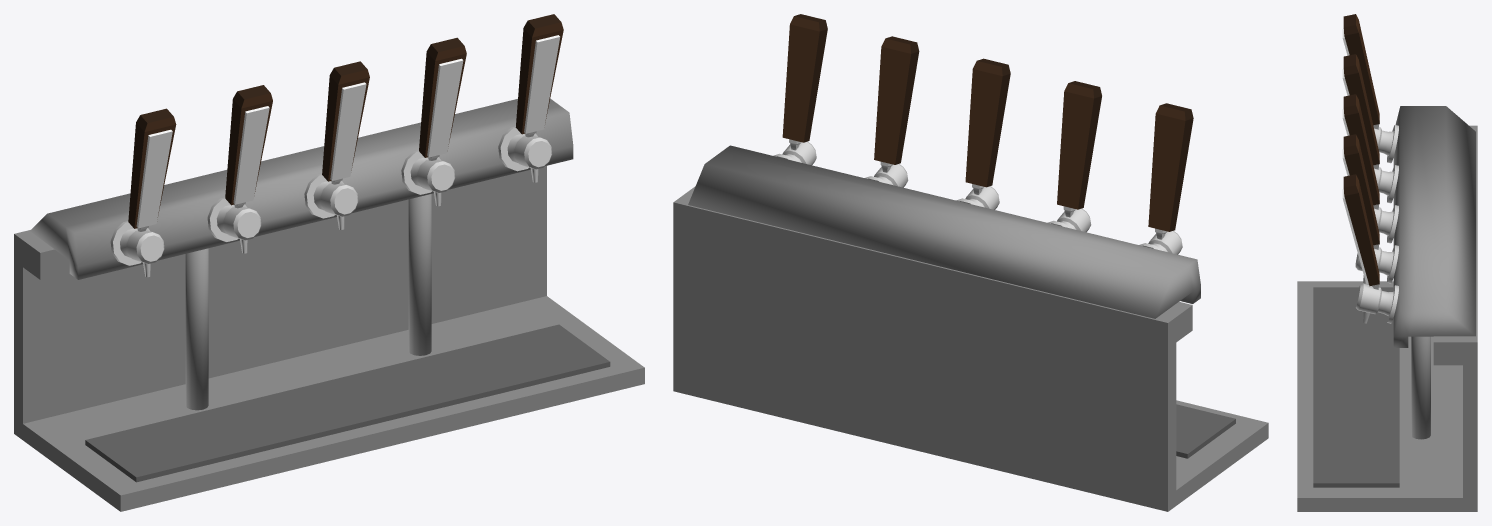
File: DrinkStation.fbx
The picture shows the model from 3 angles, left to right: view 1: azimuth 30°, elevation 25°; view 2: azimuth 150°, elevation 25°; view 3: azimuth 270°, elevation 25°; orthographic projection. The views are drawn at different scales.
Parts seen in each view (by area): view 1: DrinkStation, TapHandle, TapHandle.001, TapHandle.002, TapHandle.003, TapHandle.004; view 2: DrinkStation, TapHandle.004, TapHandle.002, TapHandle.003, TapHandle, TapHandle.001; view 3: DrinkStation, TapHandle.004, TapHandle, TapHandle.001, TapHandle.002, TapHandle.003.
Boxes of the visible parts, x1=… form: DrinkStation: x1=14, y1=99, x2=644, y2=511; TapHandle: x1=128, y1=108, x2=176, y2=228; TapHandle.001: x1=225, y1=85, x2=272, y2=205; TapHandle.002: x1=322, y1=61, x2=369, y2=181; TapHandle.003: x1=419, y1=37, x2=466, y2=157; TapHandle.004: x1=515, y1=14, x2=563, y2=134; DrinkStation: x1=673, y1=139, x2=1268, y2=511; TapHandle.004: x1=782, y1=14, x2=827, y2=142; TapHandle.002: x1=965, y1=58, x2=1010, y2=187; TapHandle.003: x1=874, y1=36, x2=919, y2=164; TapHandle: x1=1148, y1=103, x2=1193, y2=231; TapHandle.001: x1=1057, y1=81, x2=1101, y2=209; DrinkStation: x1=1297, y1=106, x2=1477, y2=511; TapHandle.004: x1=1342, y1=174, x2=1379, y2=286; TapHandle: x1=1342, y1=14, x2=1379, y2=125; TapHandle.001: x1=1342, y1=54, x2=1379, y2=165; TapHandle.002: x1=1342, y1=94, x2=1379, y2=205; TapHandle.003: x1=1342, y1=134, x2=1379, y2=245.
Size of the model in its own units: 189 by 124 by 66.59.
